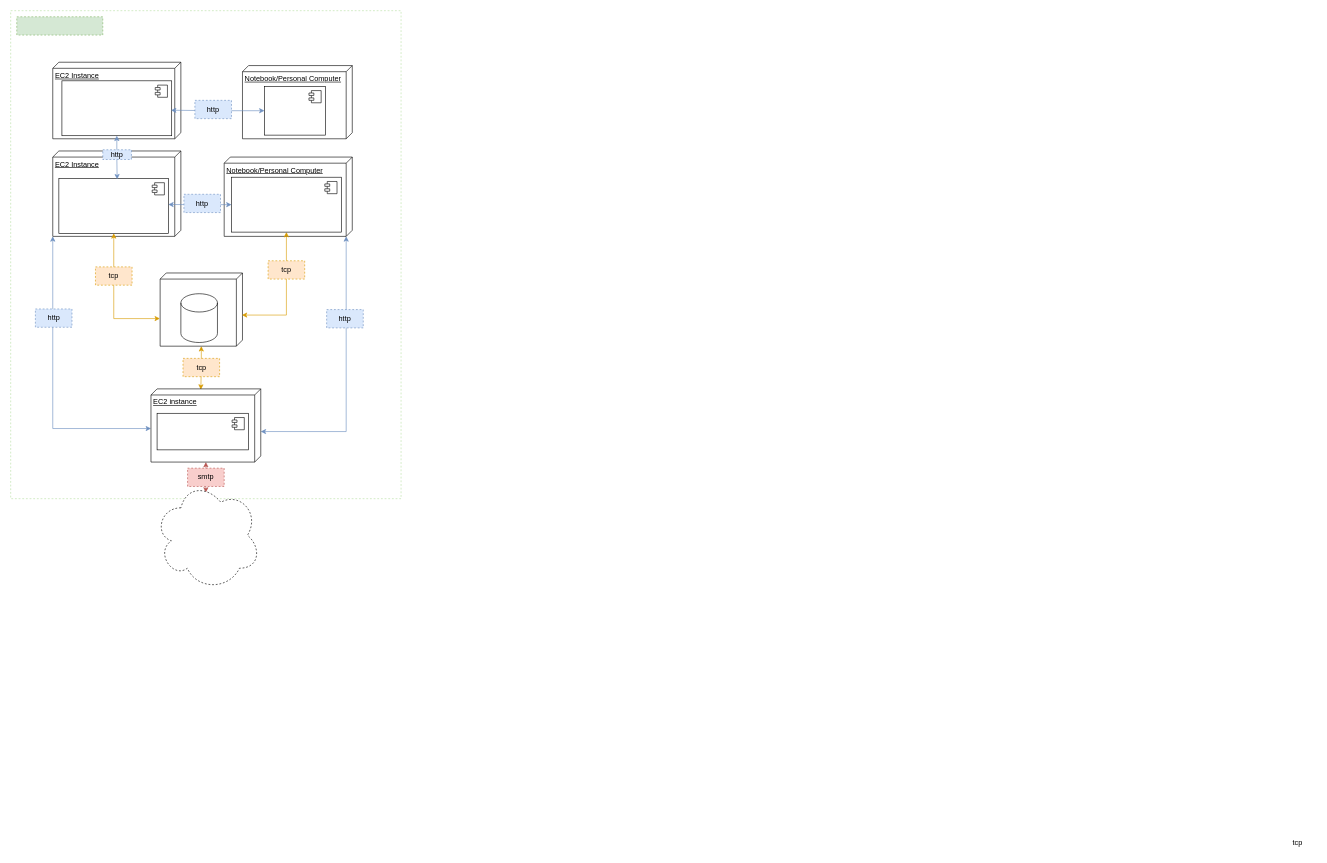
This 1327x863 diagram has some shape labels left out. The box of each missing label's shape, as (x1, y1, x2, y2) in pixels:
AWS - RDS - MySQL: (160, 272, 242, 346)
Virtual Private Network: (16, 16, 103, 35)
«Browser» Browser: (264, 86, 325, 135)
«CLI» core-command-line-interface: (231, 177, 341, 232)
«External System» GoPhish: (156, 413, 249, 450)
«Frontend» frontend-phishing-campaign: (61, 80, 172, 136)
«Microsservice» bff-phishing-campaing: (58, 178, 169, 233)
